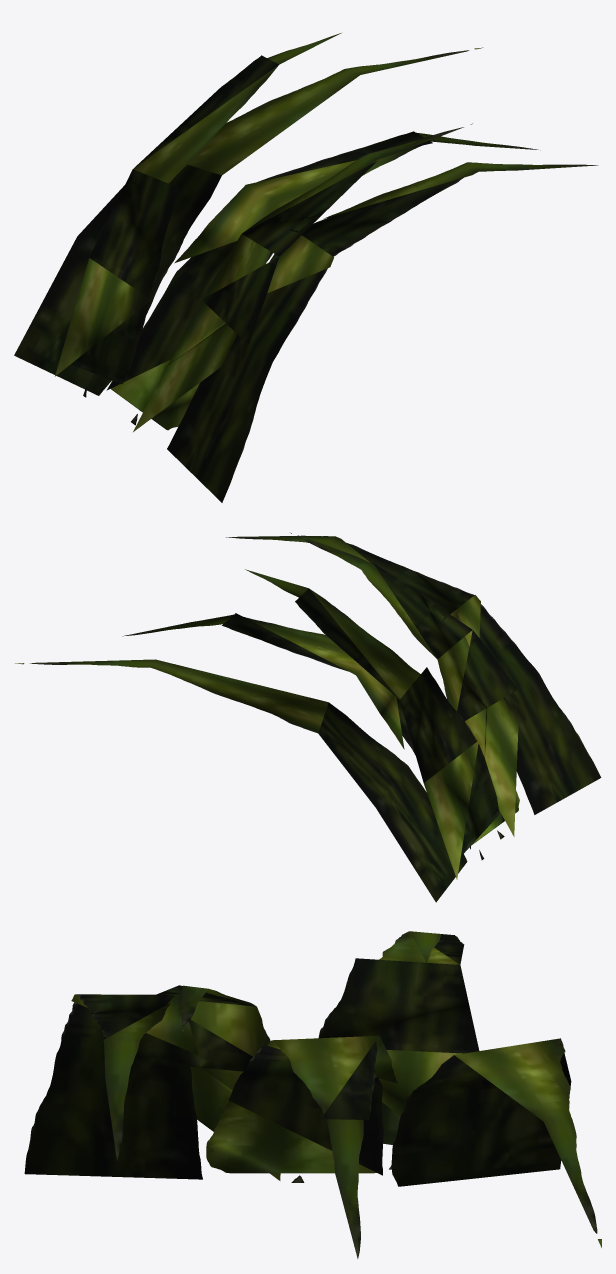
File: OW_LOB_BUSH_WATER_V1.glb
3 renders of one model, top to bottom at view 1: azimuth 30°, elevation 25°; view 2: azimuth 150°, elevation 25°; view 3: azimuth 270°, elevation 25°, orthographic. The views are drawn at different scales.
Parts seen in each view (by area): view 1: Mesh; view 2: Mesh; view 3: Mesh.
Boxes of the visible parts, x1,y1,x2,y2 form: Mesh: (14,33,598,502); Mesh: (15,532,601,902); Mesh: (24,931,601,1258).
Bounding box in the file's own units: 4.24 × 2.5 × 3.35.
1 material, 1 textured.
